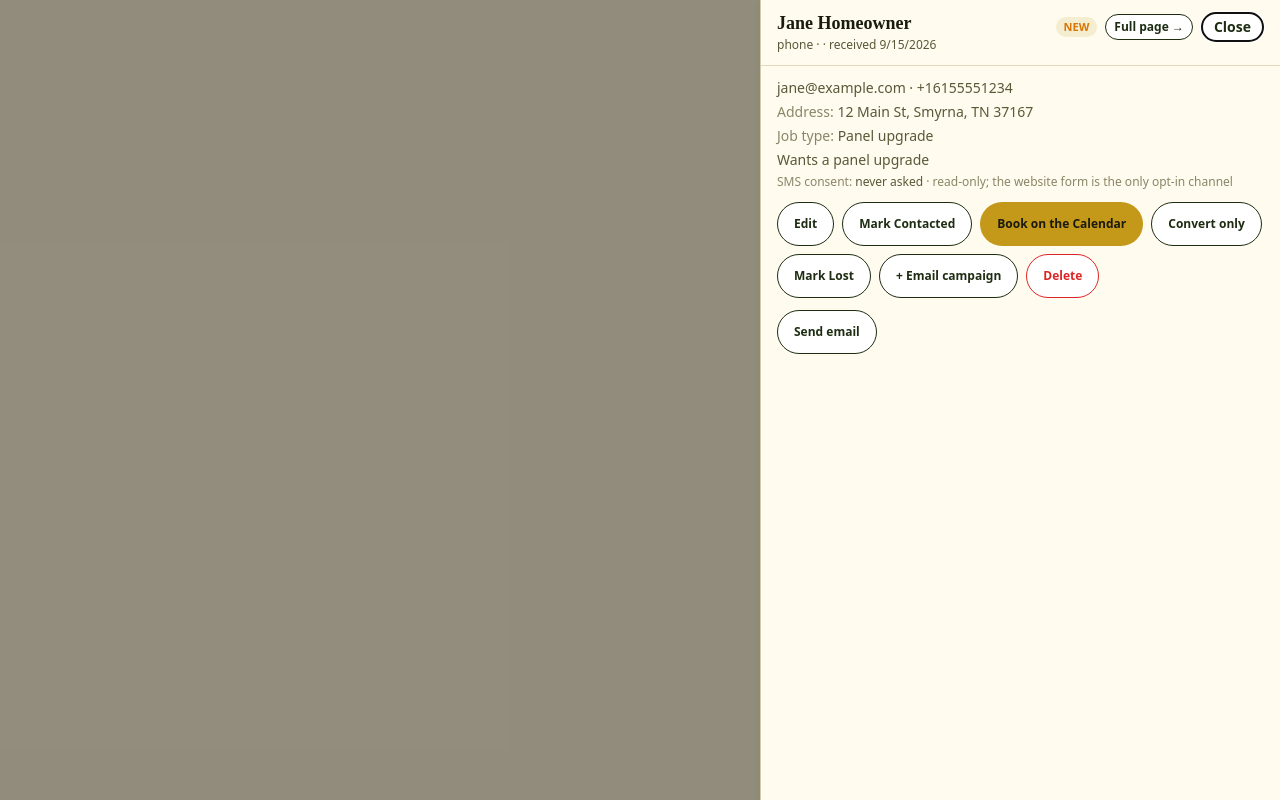
Test: LeadDrawer › edits the lead in place and the PATCH never carries smsConsent
Click the button "Edit".
click(806, 224)  # box [777, 202, 834, 246]
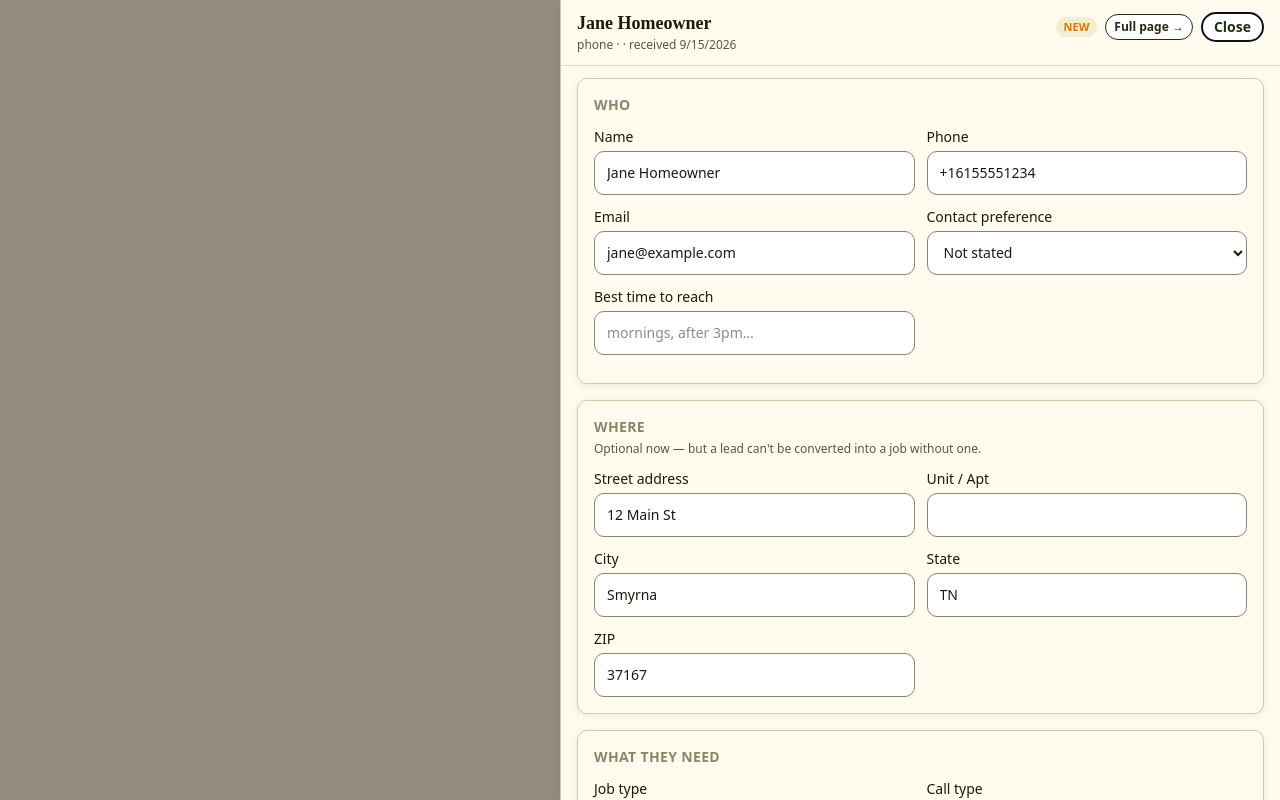
Check: the field labelled "Name" holds "Jane Homeowner"
Replace the text in the field labelled "Name" with "Jane H. Homeowner" at (754, 172), box [594, 150, 914, 194]
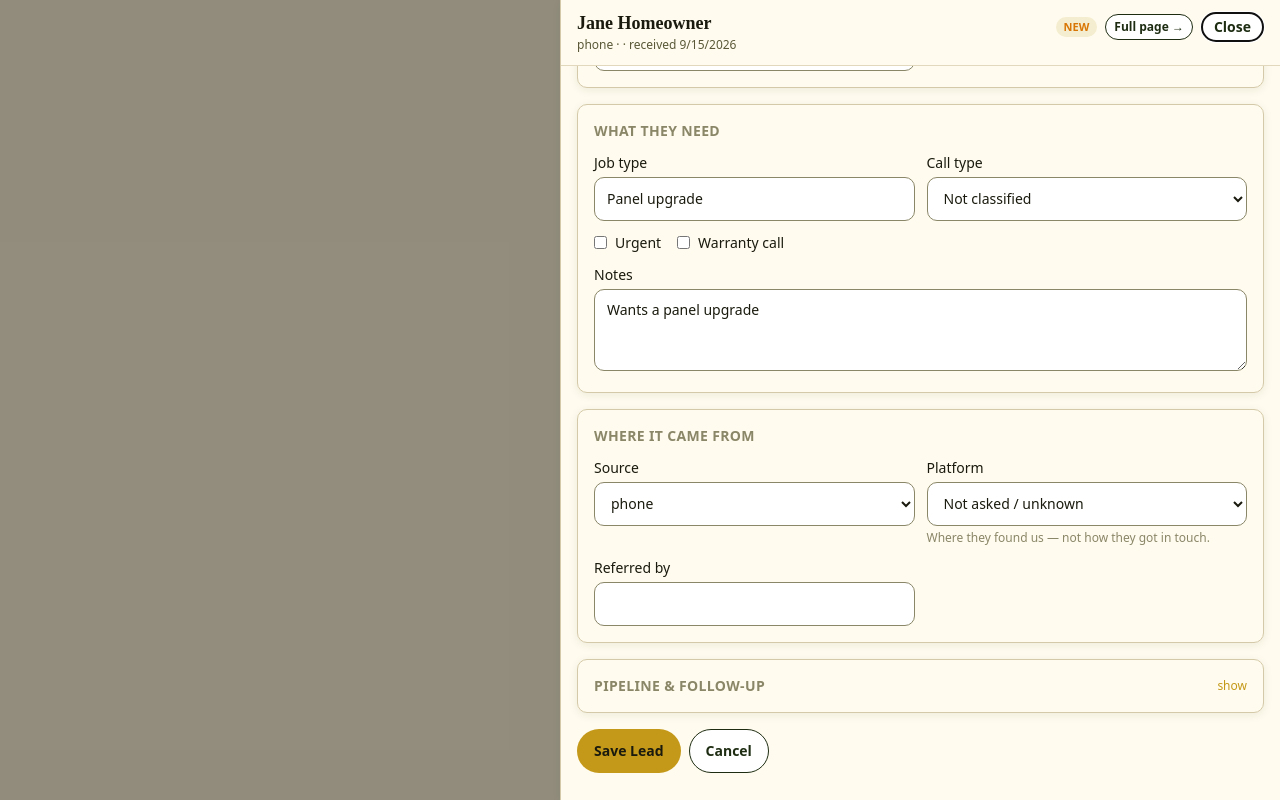
Click the button "Save Lead".
click(629, 750)  # box [577, 728, 681, 772]
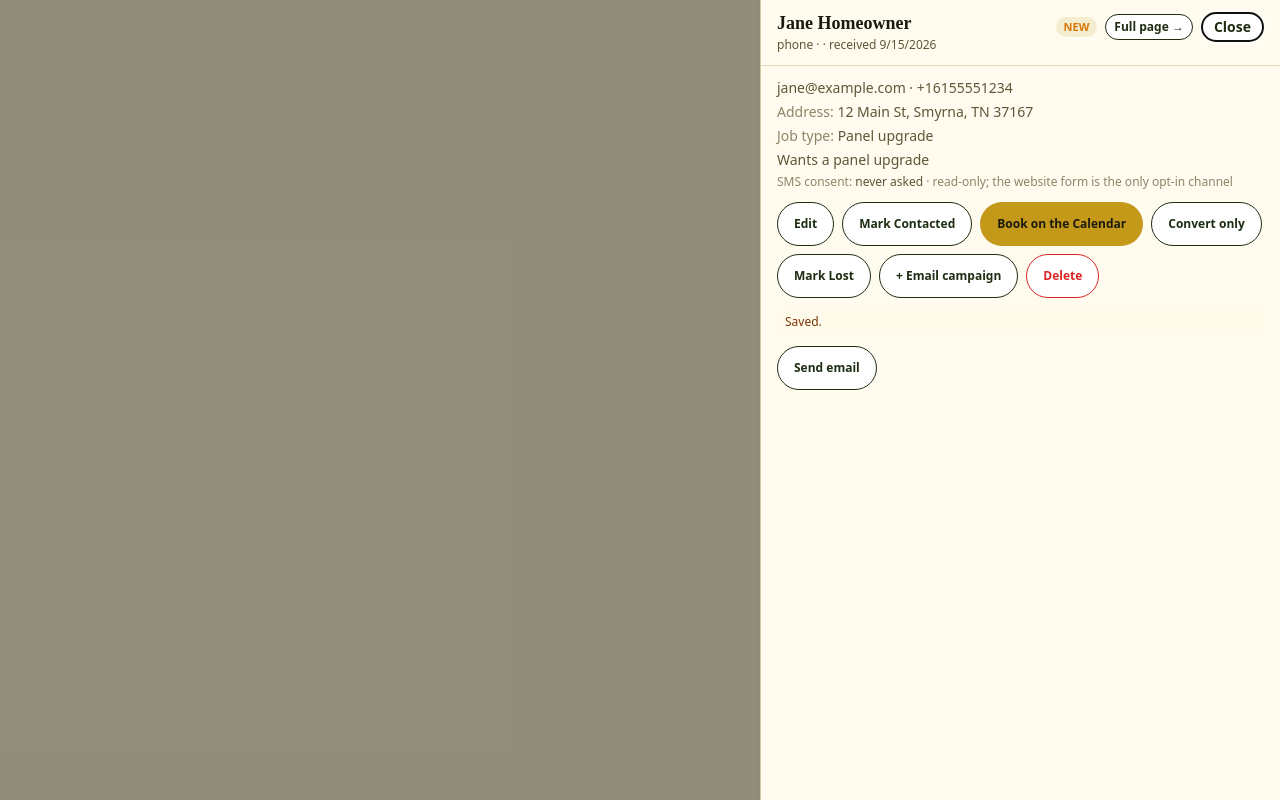
Check: the text "Saved." is shown, box [777, 310, 1264, 334]
